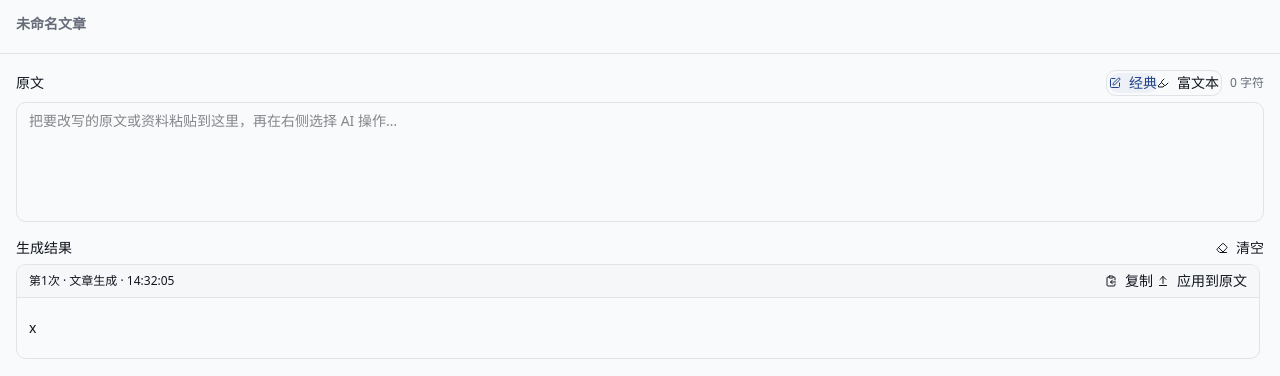
Test: EditorPanel › 清空按钮清空生成结果
The width and height of the screenshot is (1280, 376).
Click the button with aria-label "清空生成结果": point(1240, 248) [1216,238,1264,258]
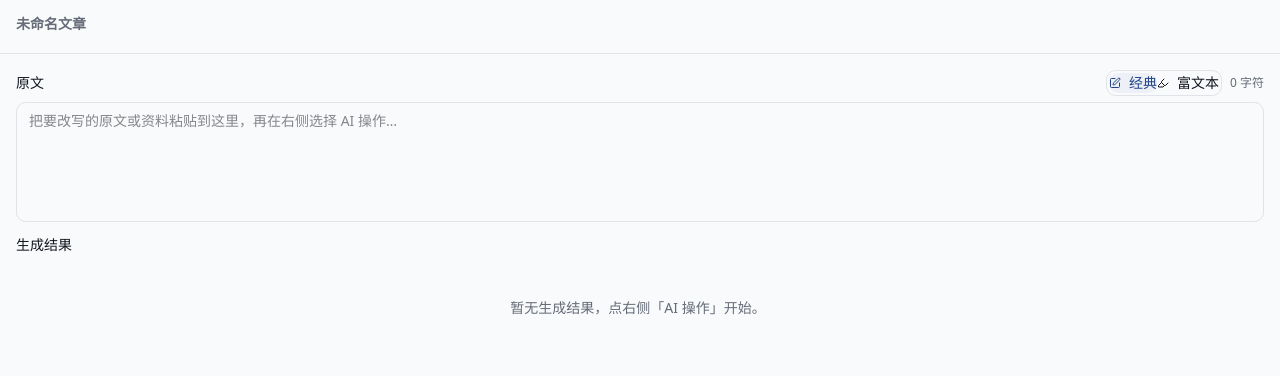
Check: the text "暂无生成结果，点右侧「AI 操作」开始。" is shown, box [510,298,766,317]
